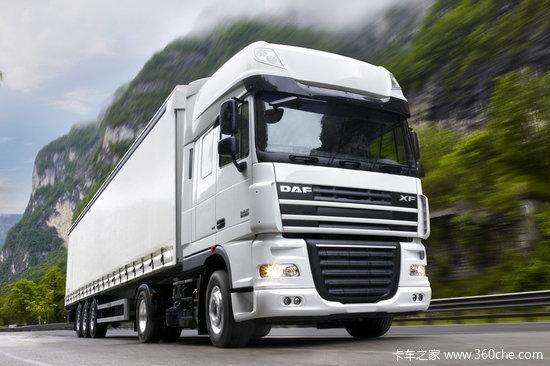truck: (45, 48, 439, 347)
